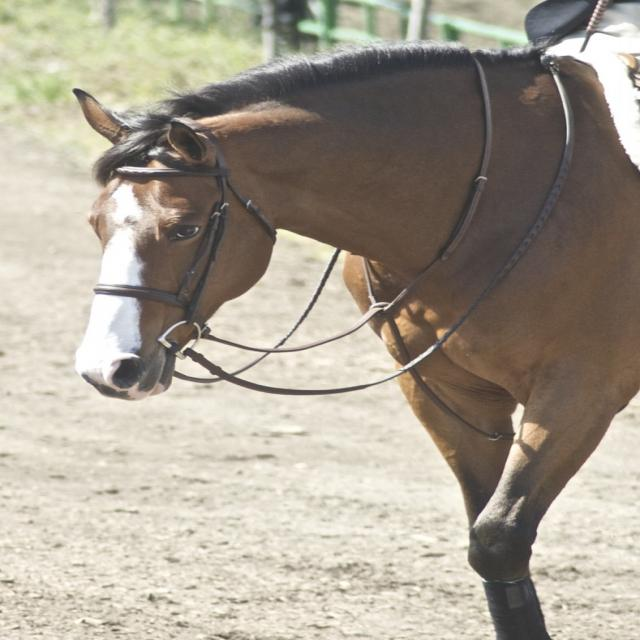Horse: (70, 39, 640, 640)
